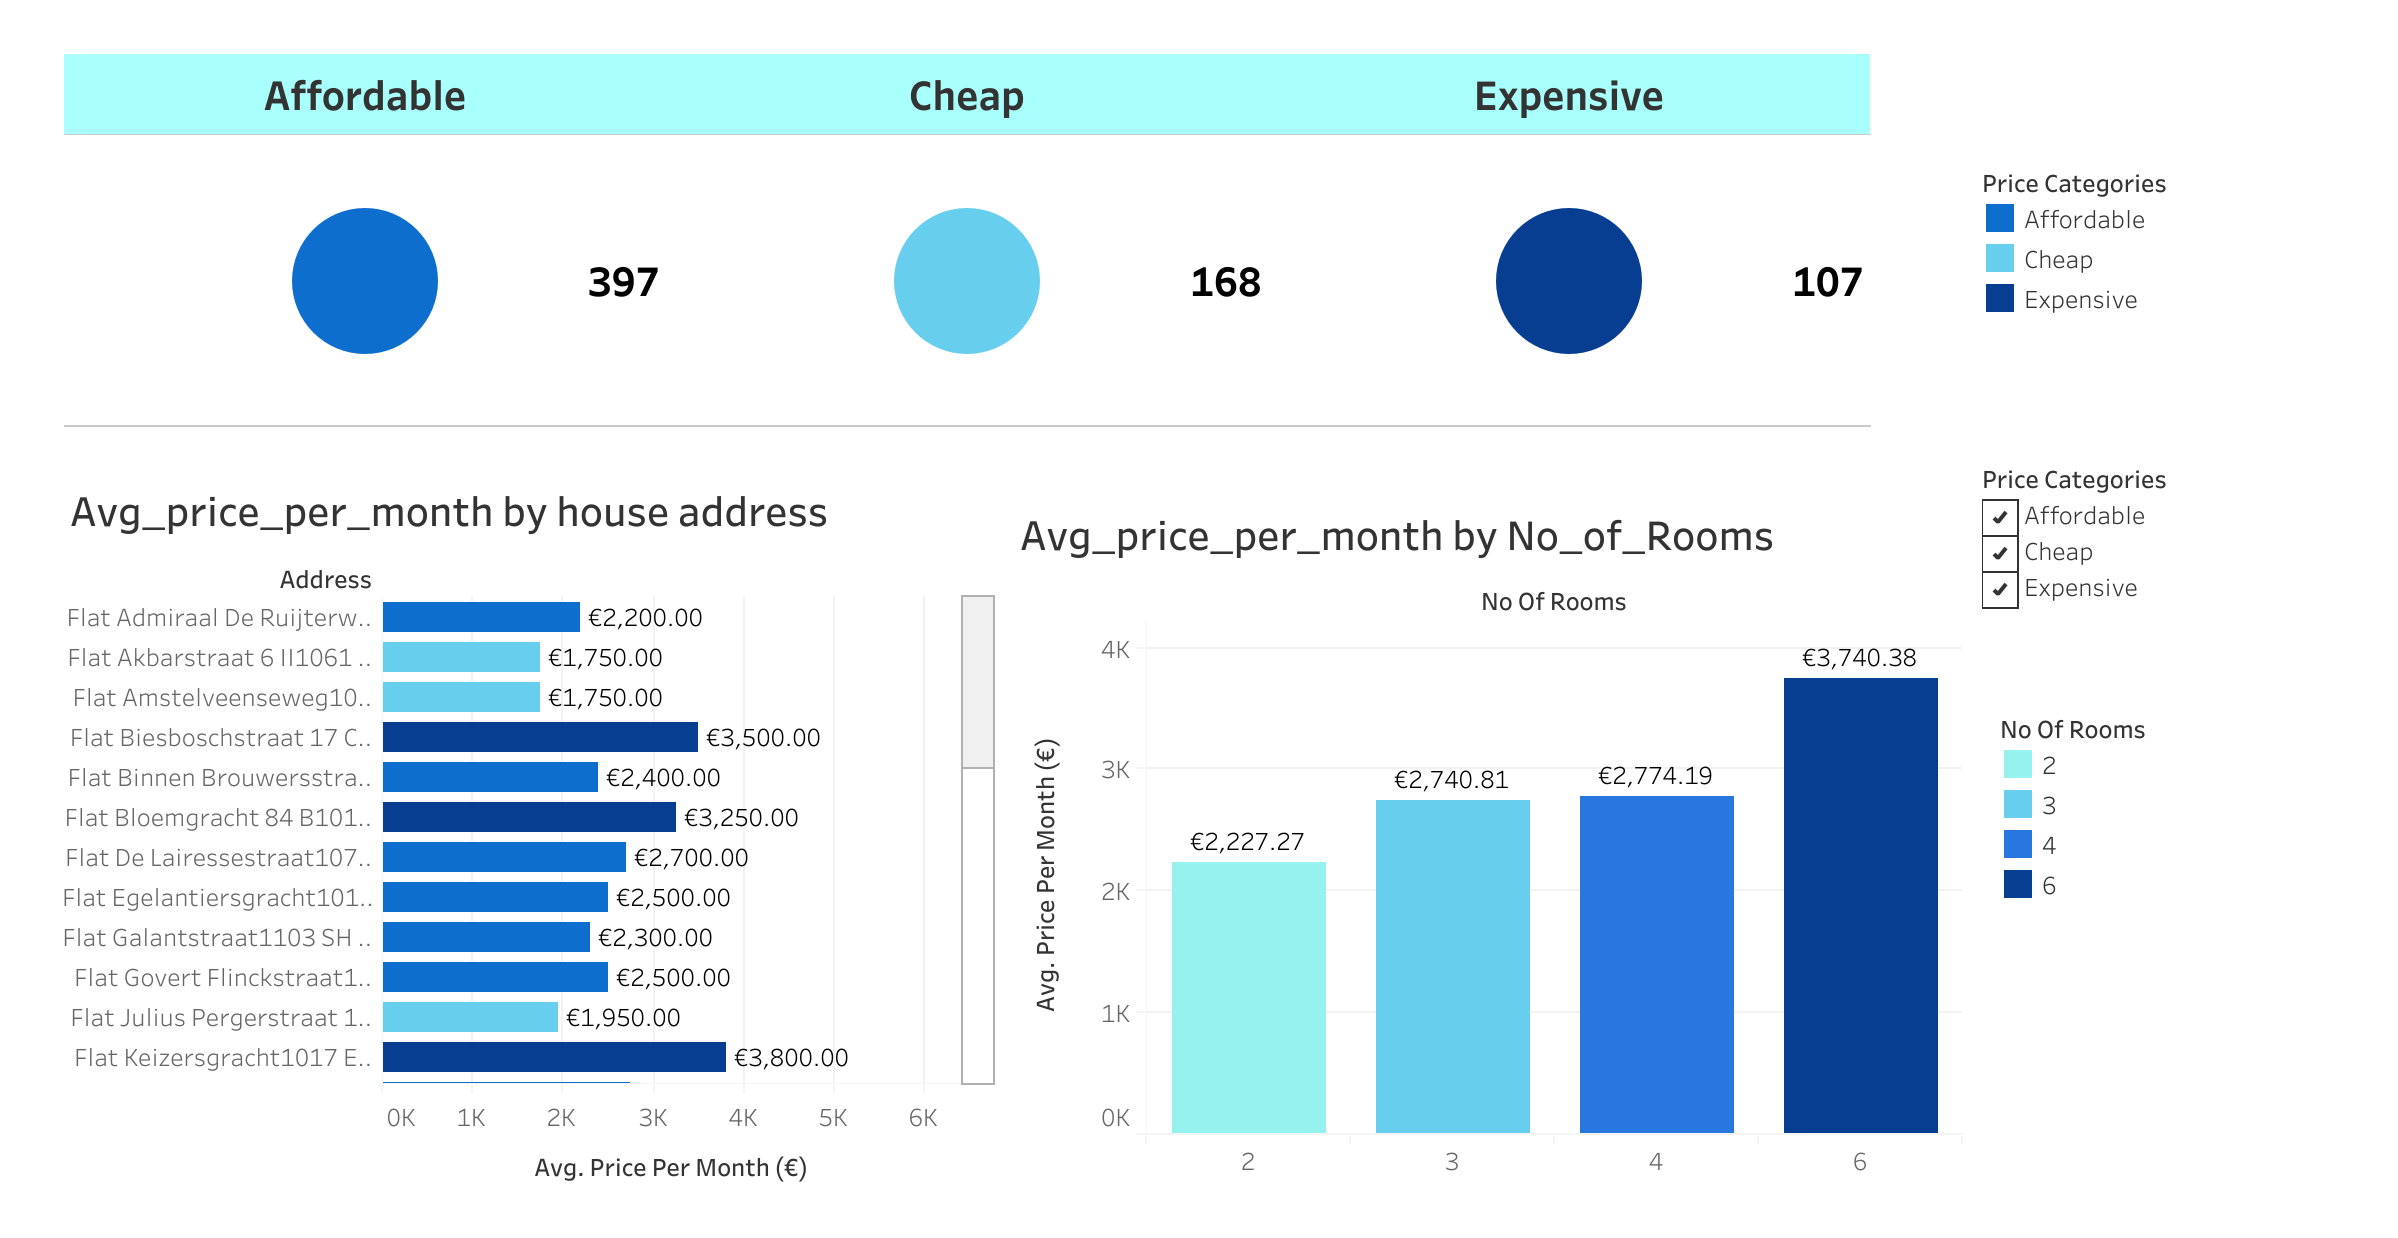

This screenshot's page, from the dashboard's own definition file:
{"tool":"tableau","page":{"name":"Dashboard 1","canvas":[1000,1000],"units":"permille","ordinal":0},"visuals":[{"type":"filter","title":"Price categories by # of houses","param":"[federated.0qpqqof03yxopl14k9i9j0sh19vi].[none:PRICE_RANGES:nk]","box":[584.4,21.8,397.4,91.4]},{"type":"text","box":[16.5,23.2,560.9,88.5]},{"type":"worksheet","title":"Price categories by # of houses","mark":"Circle","box":[586.1,119,395.7,354.1]},{"type":"worksheet","title":"KPIs","mark":"Automatic","box":[20,121.9,555.6,123.4]},{"type":"worksheet","title":"Avg price by address","mark":"Automatic","rows":["ADDRESS"],"cols":["PRICE_PER_MONTH"],"box":[20.9,264.1,555.6,715.5]},{"type":"worksheet","title":"Avg price by # of rooms","mark":"Line","rows":["PRICE_PER_MONTH","PRICE_PER_MONTH"],"cols":["NO_OF_ROOMS"],"box":[589.6,483.3,392.2,492]}]}

Visuals, with their boxes on the dashboard's canvas, which has no fixed pixel size, in thousandths of its width and height (x1, y1, x2, y2). These are canvas units, not pixel positions in the 2398x1238 screenshot, which may show the page scaled, cropped or inside an application window:
"Price categories by # of houses" filter: crop(584, 22, 982, 113)
text: crop(16, 23, 577, 112)
"Price categories by # of houses" worksheet (Circle marks): crop(586, 119, 982, 473)
"KPIs" worksheet: crop(20, 122, 576, 245)
"Avg price by address" worksheet: crop(21, 264, 576, 980)
"Avg price by # of rooms" worksheet (Line marks): crop(590, 483, 982, 975)
